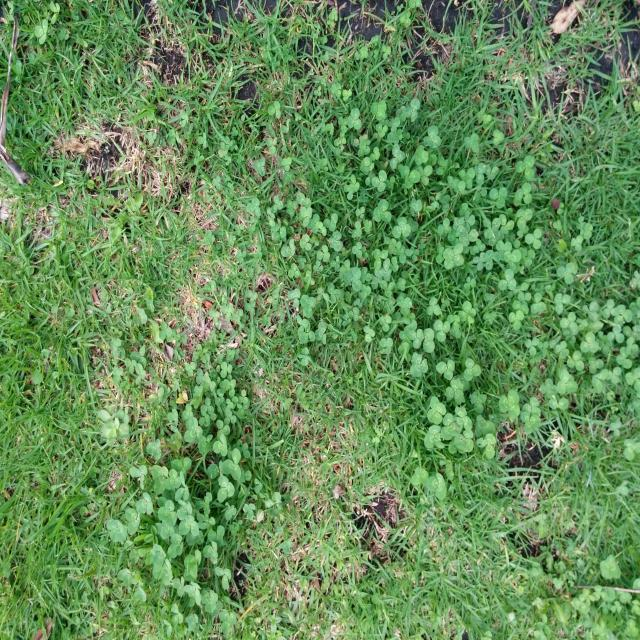Four Leaf Clover: (427, 396, 446, 425), (107, 519, 127, 542)
